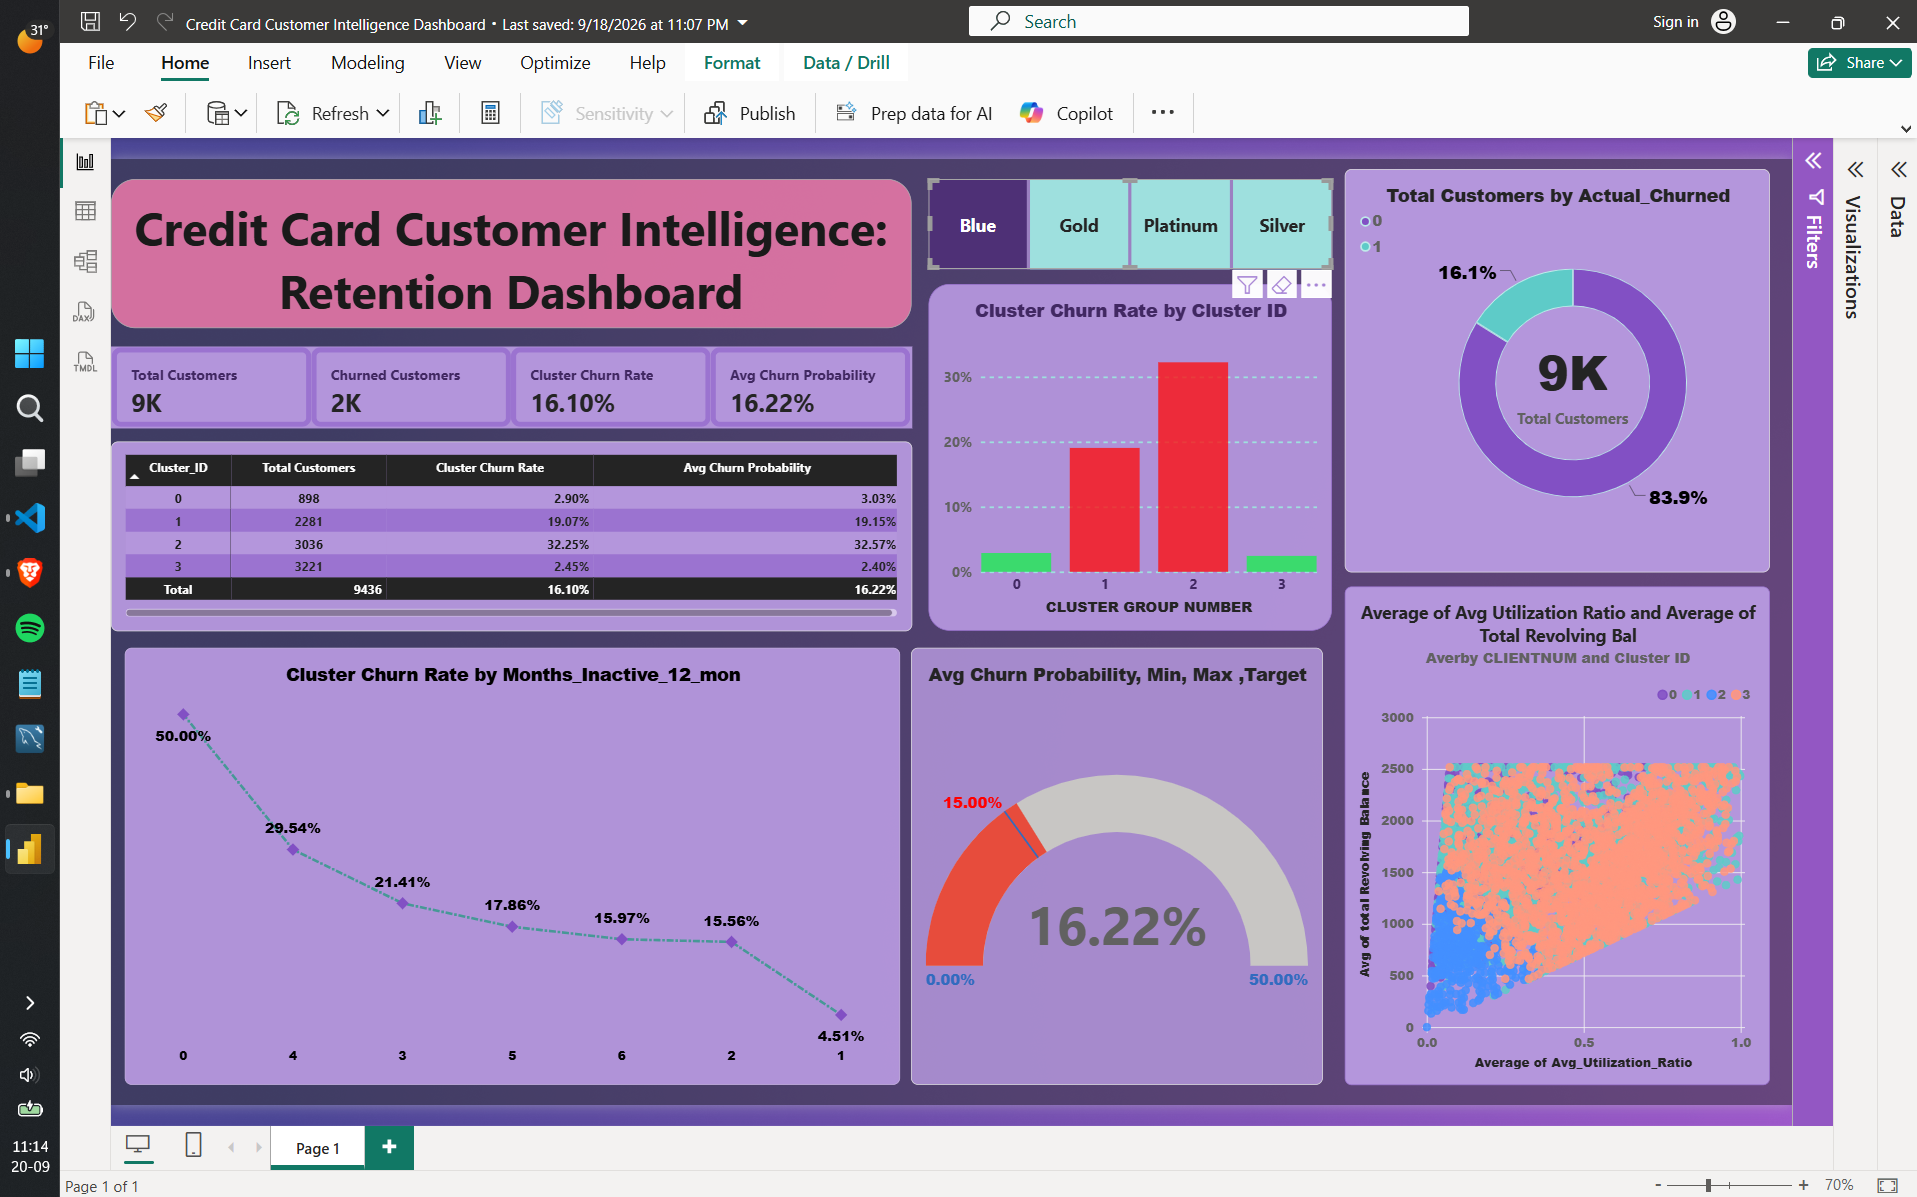

The dashboard page shown, as its layout file describes it:
{"tool":"powerbi","page":{"name":"Page 1","canvas":[1920,1080],"ordinal":0},"visuals":[{"type":"cardVisual","fields":{"Data":["retention_dataset.Total Customers","retention_dataset.Churned Customers","retention_dataset.Cluster Churn Rate","retention_dataset.Avg Churn Probability"]},"box":[0,213.7,915.1,93.5],"z":0},{"type":"clusteredColumnChart","title":"Cluster Churn Rate by Cluster ID","fields":{"Category":["retention_dataset.Cluster_ID"],"Y":["retention_dataset.Cluster Churn Rate"]},"box":[933.4,143.5,461,395.9],"z":1000},{"type":"donutChart","fields":{"Category":["retention_dataset.Actual_Churned"],"Y":["retention_dataset.Total Customers"]},"box":[1409.7,11.5,485.8,461],"z":2000},{"type":"scatterChart","title":"Average of Avg Utilization Ratio and Average of Total Revolving Bal","fields":{"Category":["retention_dataset.CLIENTNUM"],"Series":["retention_dataset.Cluster_ID"],"X":["retention_dataset.Avg_Utilization_Ratio"],"Y":["Avg(retention_dataset.Total_Revolving_Bal)"]},"box":[1409.7,487.7,485.8,570],"z":2001},{"type":"pivotTable","fields":{"Rows":["retention_dataset.Cluster_ID"],"Values":["retention_dataset.Total Customers","retention_dataset.Cluster Churn Rate","retention_dataset.Avg Churn Probability"]},"box":[0,322.3,915.1,217.1],"z":2002},{"type":"advancedSlicerVisual","fields":{"Values":["retention_dataset.Card_Category"]},"box":[933.4,23,461,103.3],"z":2003},{"type":"gauge","title":"Avg Churn Probability, Min, Max ,Target","fields":{"Y":["retention_dataset.Avg Churn Probability"]},"box":[914.3,558.5,470.5,499.2],"z":2004},{"type":"lineChart","fields":{"Category":["retention_dataset.Months_Inactive_12_mon"],"Y":["retention_dataset.Cluster Churn Rate"]},"box":[15.3,558.5,885.6,499.2],"z":2005},{"type":"textbox","box":[0,23,914.3,170.2],"z":2006}]}

Visuals, with their boxes in screenshot pixels (x1, y1, x2, y2):
cardVisual - retention_dataset.Total Customers x retention_dataset.Churned Customers: rect(30, 318, 899, 407)
"Cluster Churn Rate by Cluster ID" clusteredColumnChart: rect(916, 251, 1354, 627)
donutChart - retention_dataset.Actual_Churned x retention_dataset.Total Customers: rect(1369, 126, 1830, 564)
"Average of Avg Utilization Ratio and Average of Total Revolving Bal" scatterChart: rect(1369, 578, 1830, 1119)
pivotTable - retention_dataset.Cluster_ID x retention_dataset.Total Customers: rect(30, 421, 899, 627)
advancedSlicerVisual - retention_dataset.Card_Category: rect(916, 137, 1354, 235)
"Avg Churn Probability, Min, Max ,Target" gauge: rect(898, 645, 1345, 1119)
lineChart - retention_dataset.Months_Inactive_12_mon x retention_dataset.Cluster Churn Rate: rect(44, 645, 886, 1119)
textbox: rect(30, 137, 898, 298)
